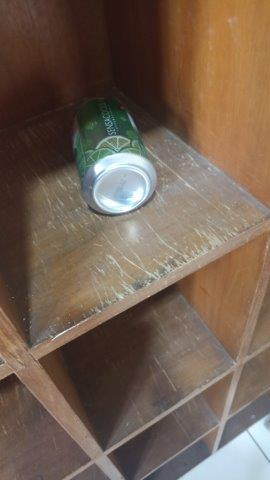kaleng: (72, 100, 157, 215)
